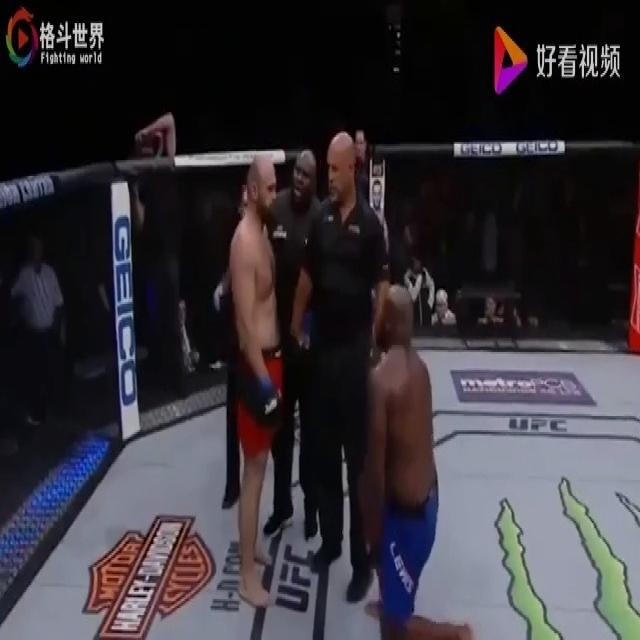non-fight: (289, 126, 389, 612), (348, 277, 476, 640), (228, 151, 278, 612)
